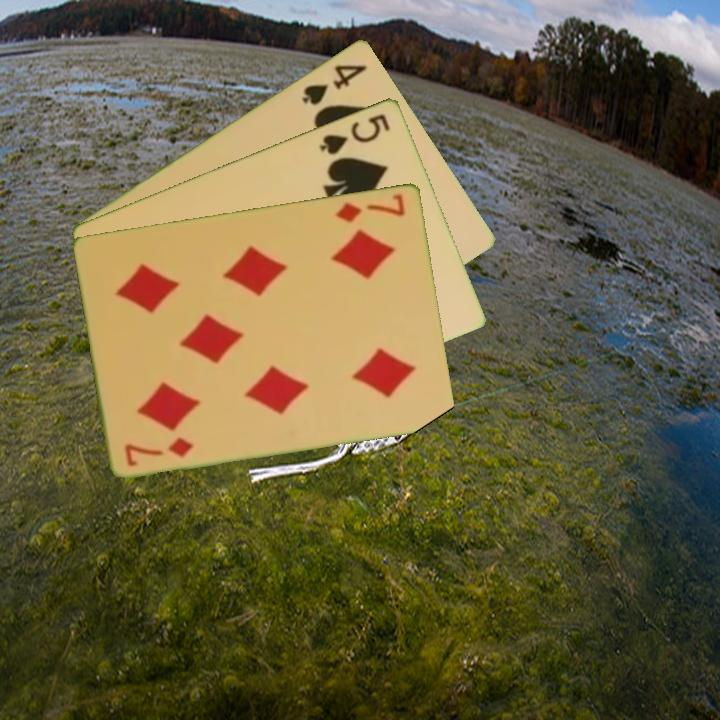4s: (298, 60, 370, 108)
5s: (316, 110, 393, 157)
7d: (121, 433, 198, 469), (332, 189, 408, 225)
